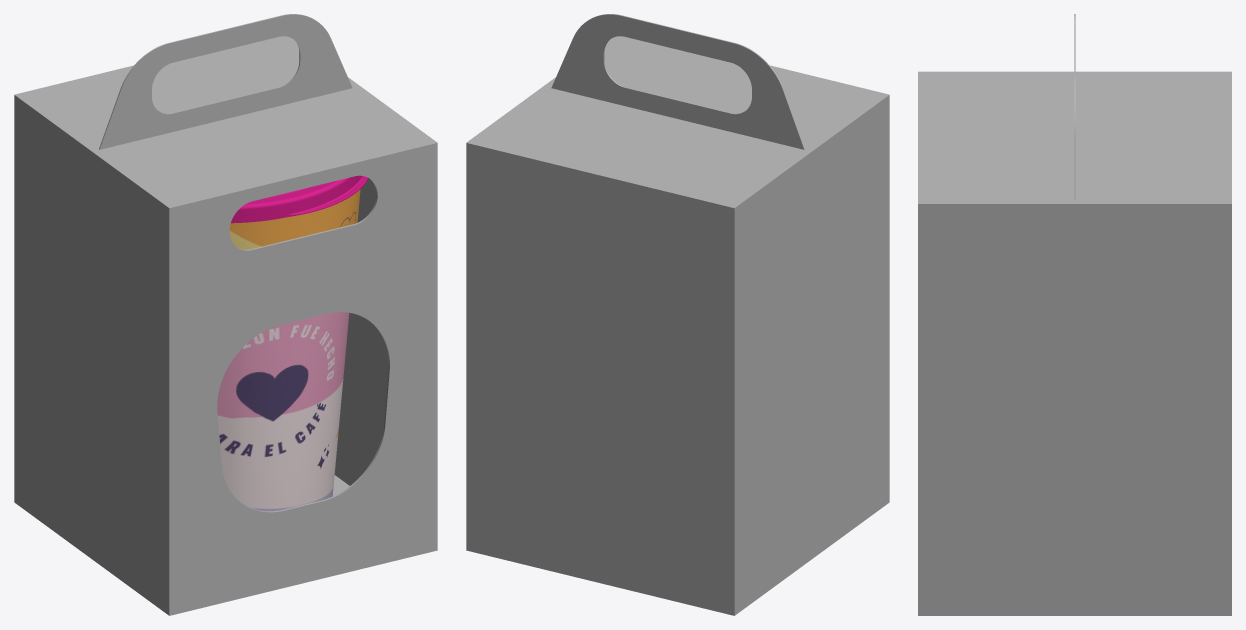
The picture shows the model from 3 angles, left to right: view 1: azimuth 30°, elevation 25°; view 2: azimuth 150°, elevation 25°; view 3: azimuth 270°, elevation 25°; orthographic projection.
Visible parts, largest first — view 1: object_2_n3d, object_1%2E002_n3d, object_1_n3d, tapa pico; view 2: object_2_n3d, object_1_n3d; view 3: object_2_n3d.
Part boxes in pixels (x1,y1,x2,y2): object_2_n3d: (14,36,437,615); object_1%2E002_n3d: (217,189,360,511); object_1_n3d: (99,14,352,149); tapa pico: (231,175,368,223); object_2_n3d: (466,36,889,615); object_1_n3d: (551,14,804,149); object_2_n3d: (918,71,1231,615).
Size of the model in its own units: 1.27 by 2.24 by 1.27.
Materials: 4 (1 with a texture image).
